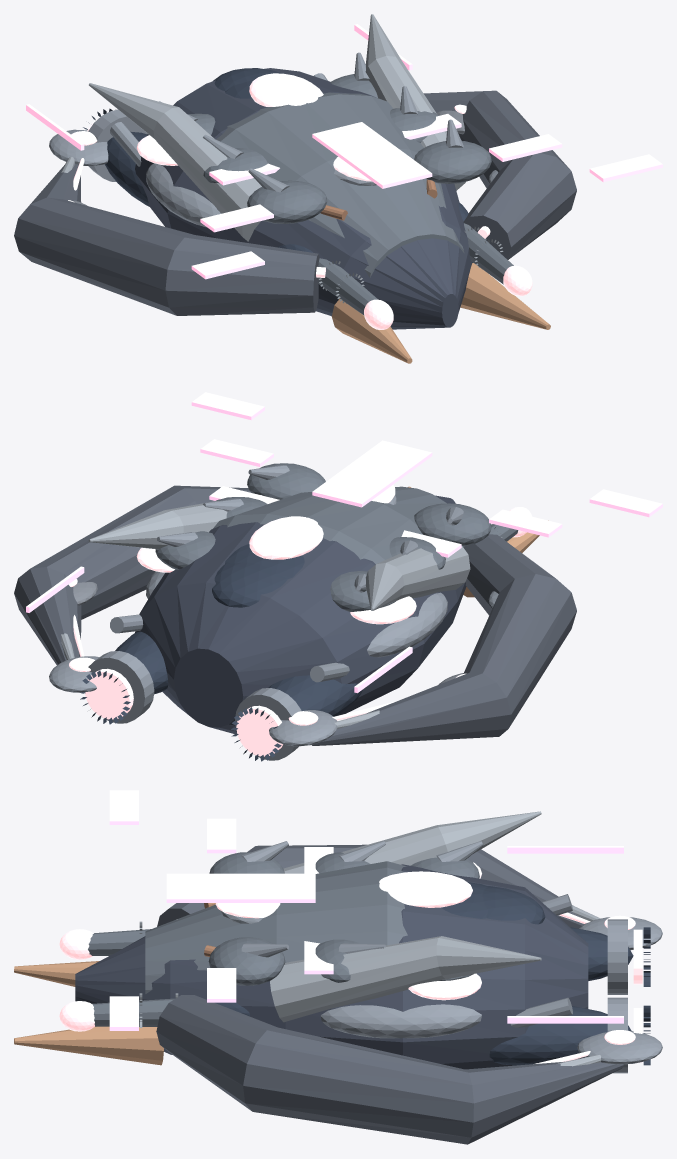
The model's file is npc_bossDevolarium.glb.
3 renders of one model, top to bottom at view 1: azimuth 30°, elevation 25°; view 2: azimuth 150°, elevation 25°; view 3: azimuth 270°, elevation 25°, orthographic. The views are drawn at different scales.
Parts seen in each view (by area): view 1: armored_scythe_-1, keel_pressure_hull, upper_armor_scar, armored_scythe_1, V59 trim baked, prime_arch_back_-1, prime_arch_back_1, prime_secondary_horn_1, dreadnox_dorsal_plating_1_0, dreadnox_dorsal_plating_-1_0, heavy_shield_pad_-1, prime_emitter (+14 smaller); view 2: keel_pressure_hull, armored_scythe_-1, V59 trim baked, armored_scythe_1, upper_armor_scar, prime_arch_back_-1, prime_arch_back_1, prime_emitter, destroyer_turret, heavy_shield_pad_-1, dreadnox_dorsal_plating_-1_0, engine_armor_-1 (+14 smaller); view 3: armored_scythe_1, keel_pressure_hull, upper_armor_scar, V59 trim baked, prime_arch_back_1, heavy_shield_pad_1, prime_arch_back_-1, prime_secondary_horn_1, engine_armor_1, armored_scythe_-1, prime_emitter, dreadnox_dorsal_plating_1_0 (+20 smaller).
Part boxes in pixels (x1,y1,x2,y2): armored_scythe_-1: [14, 163, 319, 315]; keel_pressure_hull: [135, 68, 472, 329]; upper_armor_scar: [216, 92, 464, 277]; armored_scythe_1: [423, 90, 576, 262]; V59 trim baked: [26, 24, 662, 279]; prime_arch_back_-1: [89, 83, 261, 241]; prime_arch_back_1: [365, 14, 465, 190]; prime_secondary_horn_1: [460, 263, 550, 329]; dreadnox_dorsal_plating_1_0: [414, 141, 491, 183]; dreadnox_dorsal_plating_-1_0: [247, 180, 327, 223]; heavy_shield_pad_-1: [146, 163, 221, 227]; prime_emitter: [249, 73, 323, 106]; keel_pressure_hull: [135, 495, 466, 733]; armored_scythe_-1: [312, 534, 576, 745]; V59 trim baked: [26, 392, 662, 693]; armored_scythe_1: [14, 485, 251, 664]; upper_armor_scar: [213, 486, 446, 598]; prime_arch_back_-1: [365, 539, 470, 610]; prime_arch_back_1: [88, 495, 261, 549]; prime_emitter: [249, 516, 323, 559]; destroyer_turret: [212, 562, 287, 607]; heavy_shield_pad_-1: [367, 592, 447, 657]; dreadnox_dorsal_plating_-1_0: [414, 503, 491, 546]; engine_armor_-1: [268, 675, 362, 716]; armored_scythe_1: [156, 995, 623, 1144]; keel_pressure_hull: [75, 864, 588, 1069]; upper_armor_scar: [145, 861, 407, 993]; V59 trim baked: [109, 790, 623, 1030]; prime_arch_back_1: [270, 936, 541, 1022]; heavy_shield_pad_1: [320, 1004, 481, 1038]; prime_arch_back_-1: [283, 811, 541, 873]; prime_secondary_horn_1: [14, 1026, 163, 1065]; engine_armor_1: [489, 1006, 631, 1065]; armored_scythe_-1: [157, 844, 584, 928]; prime_emitter: [379, 871, 472, 907]; dreadnox_dorsal_plating_1_0: [208, 937, 285, 985].
Size of the model in its own units: 4.85 by 1.64 by 5.17.
